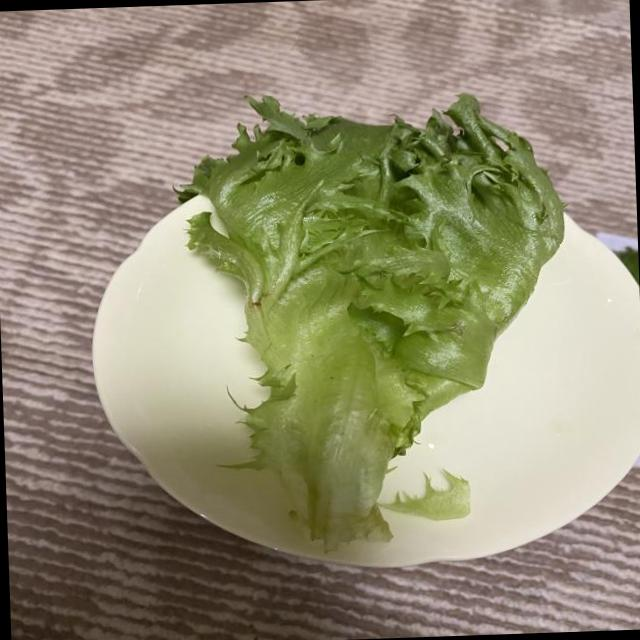Lettuce-Ready-to-Harvest: (180, 95, 562, 548)
